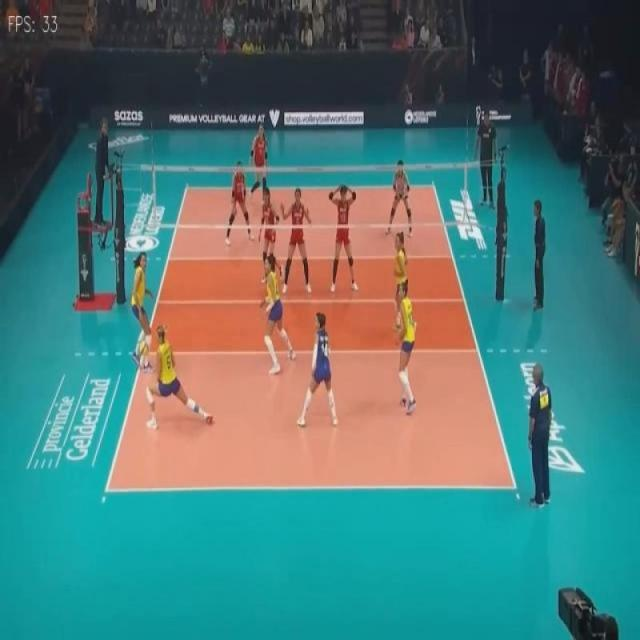volleyball: (139, 340, 150, 358)
